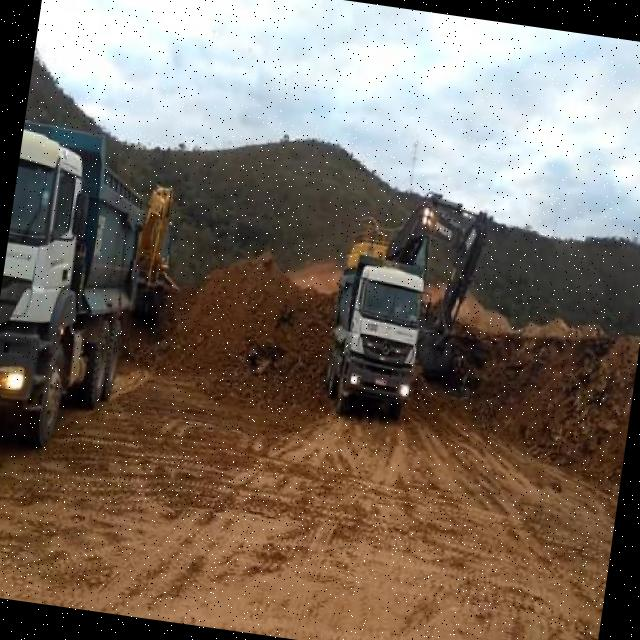Dump Truck: (0, 118, 154, 461), (318, 250, 429, 424)
Excavator: (328, 182, 492, 390), (131, 178, 192, 300)
